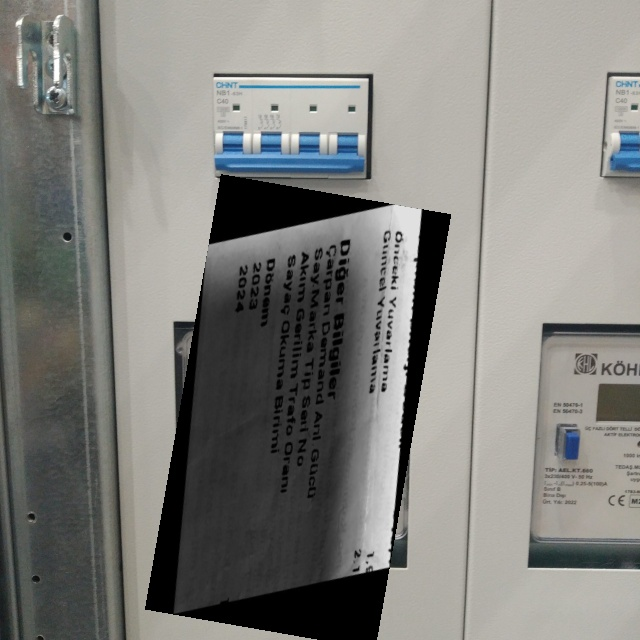electricity-bill: (145, 173, 451, 639)
